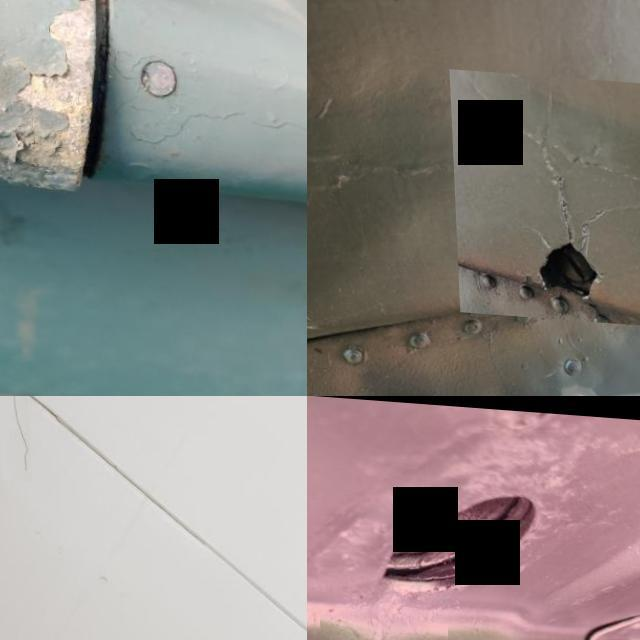Crack: (448, 66, 640, 321), (0, 396, 30, 479)
Dent: (317, 610, 450, 640)
